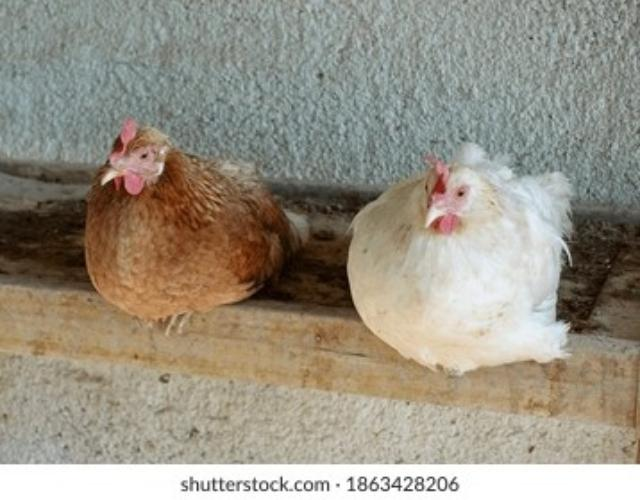Chicken: (344, 142, 574, 378), (84, 117, 305, 339)
